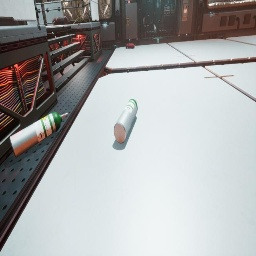0: (9, 112, 69, 158), (114, 99, 138, 144)
EmergencyPhone ,: (126, 16, 129, 26)
FireExtinguisher ]: (126, 43, 136, 49)
NitrogenTank ,: (52, 16, 68, 26)
SafetySwitchPanel ,: (181, 0, 189, 21)
